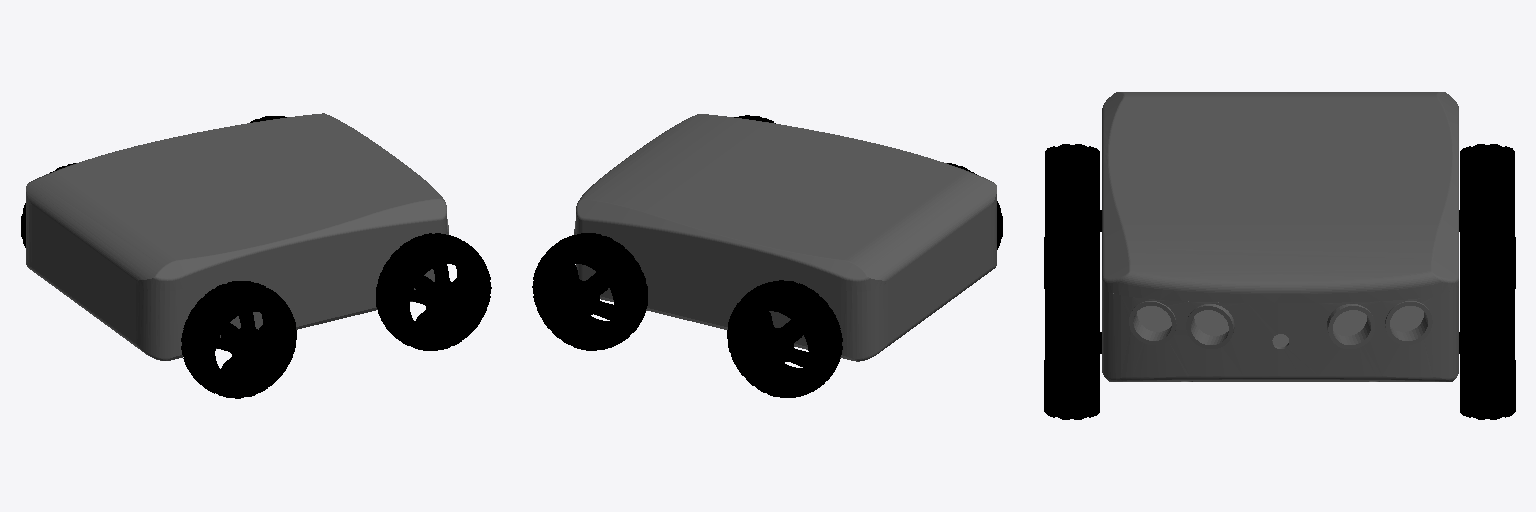
The robot description file, URDF, robot "orion":
<?xml version="1.0"?>

<robot xmlns:xacro="http://www.ros.org/wiki/xacro" name="orion">

    <link name="base_footprint" />

    <link name="base_link">
        <inertial>
            <origin xyz="0.0 0.0 0.02" rpy="0.0 0.0 0" />
            <mass value="1.5" />
            <inertia ixx="0.0035705" ixy="0.0" ixz="0.0"
                iyy="0.0057545" iyz="0.0"
                izz="0.008425" />
        </inertial>
        <visual>
            <origin xyz="0.0 0.0 0.02" rpy="0.0 0.0 0" />
            <geometry>
                <mesh filename="package://vehicle_control_software/urdf/meshes/body.stl"/>
                <!-- <box size="0.206 0.158 0.060"/> -->
            </geometry>
            <material name="dark_gray">
                <color rgba="0.4 0.4 0.4 1.0" />
            </material>
        </visual>

        <collision>
            <origin xyz="0.0 0.0 0.02" rpy="0.0 0 0" />
            <geometry>
                <box size="0.206 0.158 0.060"/>
            </geometry>
            <contact_coefficients mu="1" mu2="1" kp="1e+13.0" kd="1.0" />
        </collision>
    </link>

    <joint name="base_joint" type="fixed">
        <parent link="base_footprint" />
        <child link="base_link" />
        <origin rpy="0 0 0" xyz="0 0 0" />
    </joint>

    <link name="right_back_wheel_link">
        <inertial>
            <origin xyz="0 0.0 0.0" rpy="0 0 0.0" />
            <mass value="0.5" />
            <inertia ixx="0.0" ixy="0.0" ixz="0.0" iyy="0.0" iyz="0.0" izz="0.0" />
        </inertial>
        <visual name="">
            <origin xyz="0 0.0 0.0" rpy="0 0 0.0" />
            <geometry>
                <mesh filename="package://vehicle_control_software/urdf/meshes/wheel.stl" />
            </geometry>
            <material name="black">
                <color rgba="0.0 0.0 0.0 1.0" />
            </material>
        </visual>
        <collision>
            <origin xyz="0.0 0.0 0.0" rpy="0 0 0" />
            <geometry>
                <cylinder radius="0.033" length="0.022" />
            </geometry>
        </collision>
    </link>
    <link name="left_back_wheel_link">
        <inertial>
            <origin xyz="0 0.0 0.0" rpy="0 0 0.0" />
            <mass value="0.5" />
            <inertia ixx="0.0" ixy="0.0" ixz="0.0" iyy="0.0" iyz="0.0" izz="0.0" />
        </inertial>
        <visual name="">
            <origin xyz="0 0.0 0.0" rpy="0 0 0.0" />
            <geometry>
                <mesh filename="package://vehicle_control_software/urdf/meshes/wheel.stl" />
            </geometry>
            <material name="black">
                <color rgba="0.0 0.0 0.0 1.0" />
            </material>
        </visual>
        <collision>
            <origin xyz="0.0 0.0 0.0" rpy="0 0 0" />
            <geometry>
                <cylinder radius="0.033" length="0.022" />
            </geometry>
        </collision>
    </link>
    <link name="left_front_wheel_link">
        <inertial>
            <origin xyz="0 0.0 0.0" rpy="0 0 0.0" />
            <mass value="0.5" />
            <inertia ixx="0.0" ixy="0.0" ixz="0.0" iyy="0.0" iyz="0.0" izz="0.0" />
        </inertial>
        <visual name="">
            <origin xyz="0 0.0 0.0" rpy="0 0 0.0" />
            <geometry>
                <mesh filename="package://vehicle_control_software/urdf/meshes/wheel.stl" />
            </geometry>
            <material name="black">
                <color rgba="0.0 0.0 0.0 1.0" />
            </material>
        </visual>
        <collision>
            <origin xyz="0.0 0.0 0.0" rpy="0 0 0" />
            <geometry>
                <cylinder radius="0.033" length="0.022" />
            </geometry>
        </collision>
    </link>
    <link name="right_front_wheel_link">
        <inertial>
            <origin xyz="0 0.0 0.0" rpy="0 0 0.0" />
            <mass value="0.5" />
            <inertia ixx="0.0" ixy="0.0" ixz="0.0" iyy="0.0" iyz="0.0" izz="0.0" />
        </inertial>
        <visual name="">
            <origin xyz="0 0.0 0.0" rpy="0 0 0.0" />
            <geometry>
                <mesh filename="package://vehicle_control_software/urdf/meshes/wheel.stl" />
            </geometry>
            <material name="black">
                <color rgba="0.0 0.0 0.0 1.0" />
            </material>
        </visual>
        <collision>
            <origin xyz="0.0 0.0 0.0" rpy="0 0 0" />
            <geometry>
                <cylinder radius="0.033" length="0.022" />
            </geometry>
        </collision>
    </link>


    <joint name="wheel_right_back_joint" type="continuous">
        <origin xyz="0.07 0.08 0.033" rpy="-1.57 0 0.0" />
        <parent link="base_link" />
        <child link="right_back_wheel_link" />
        <axis xyz="0 0 1" />
    </joint>
    <joint name="wheel_left_back_joint" type="continuous">
        <origin xyz="0.07 -0.08 0.033" rpy="1.57 0 0.0" />
        <parent link="base_link" />
        <child link="left_back_wheel_link" />
        <axis xyz="0 0 1" />
    </joint>
    <joint name="wheel_left_front_joint" type="continuous">
        <origin xyz="-0.06 -0.08 0.033" rpy="1.57 0 0.0" />
        <parent link="base_link" />
        <child link="left_front_wheel_link" />
        <axis xyz="0 0 1" />
    </joint>
    <joint name="wheel_right_front_joint" type="continuous">
        <origin xyz="-0.06 0.08 0.033" rpy="-1.57 0 0.0" />
        <parent link="base_link" />
        <child link="right_front_wheel_link" />
        <axis xyz="0 0 1" />
    </joint>
</robot>

--- What the picture shows (computed from the rendered views, not written in the file) ---
The picture shows the robot from 3 angles, left to right: view 1: azimuth 30°, elevation 25°; view 2: azimuth 150°, elevation 25°; view 3: azimuth 270°, elevation 25°; orthographic projection.
Model orion with 6 links and 5 joints (4 continuous, 1 fixed), rooted at base_footprint, posed every joint at zero.
Links seen in each view (by area): view 1: base_link, left_back_wheel_link, left_front_wheel_link; view 2: base_link, right_back_wheel_link, right_front_wheel_link; view 3: base_link, left_back_wheel_link, right_back_wheel_link, left_front_wheel_link, right_front_wheel_link.
Link boxes in pixels (x1,y1,x2,y2): base_link: (26,113,448,360); left_back_wheel_link: (376,233,491,350); left_front_wheel_link: (181,281,296,398); base_link: (574,114,996,361); right_back_wheel_link: (532,233,647,350); right_front_wheel_link: (727,280,842,397); base_link: (1102,92,1458,381); left_back_wheel_link: (1044,266,1101,419); right_back_wheel_link: (1459,266,1515,419); left_front_wheel_link: (1044,144,1101,288); right_front_wheel_link: (1459,144,1515,288).
Size in the robot's own frame: 0.2144 by 0.2111 by 0.0823 metres.
5 mesh visuals loaded from 2 distinct referenced files (2 binary STL).